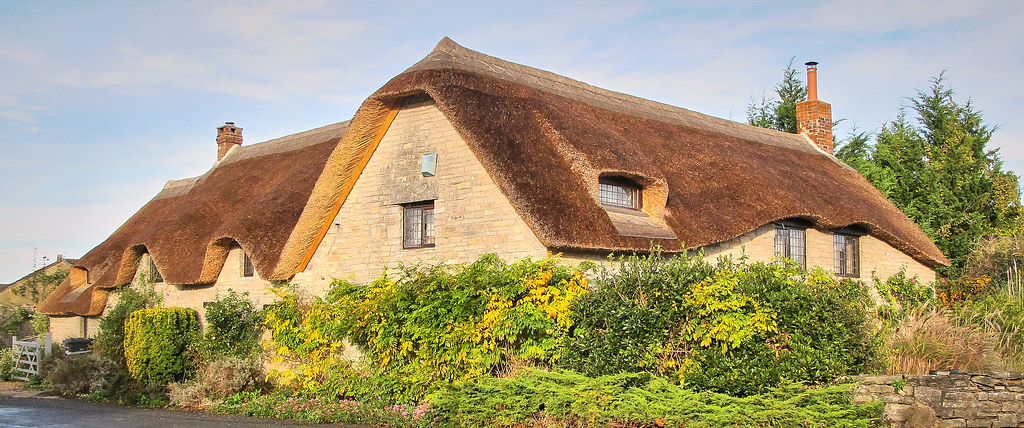high: (42, 31, 947, 397)
